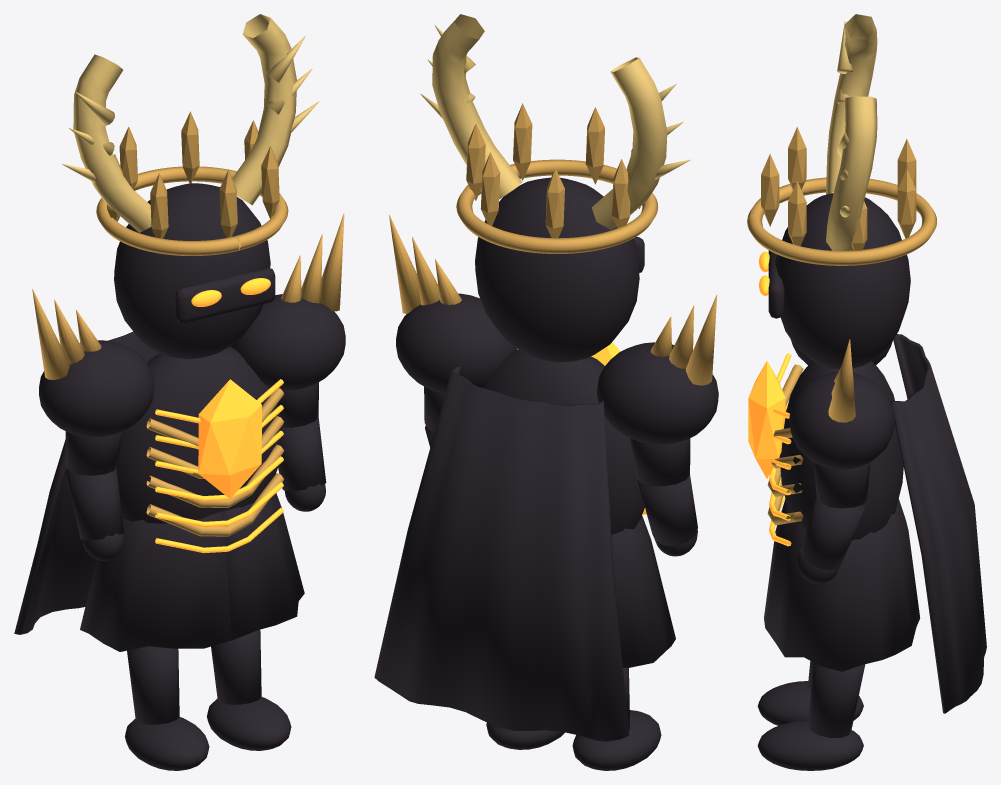
Rendered from enemy-7-refined-v15.fbx.
The picture shows the model from 3 angles, left to right: view 1: azimuth 30°, elevation 25°; view 2: azimuth 150°, elevation 25°; view 3: azimuth 270°, elevation 25°; orthographic projection. The views are drawn at different scales.
Parts seen in each view (by area): view 1: Tabard.005, Helmet.005, ArmoredTorso.005, Shoulder.012, Shoulder.013, TatteredCape.005, BossCore.003, CurvedBossHorn.006, CurvedBossHorn.007, RoyalCrown.003, Shin.012, Foot.014 (+25 smaller); view 2: TatteredCape.005, Helmet.005, Shoulder.012, Shoulder.013, ArmoredTorso.005, Tabard.005, CurvedBossHorn.007, CurvedBossHorn.006, RoyalCrown.003, Foot.014, Forearm.014, UpperArm.012 (+13 smaller); view 3: TatteredCape.005, Tabard.005, Helmet.005, Shoulder.013, ArmoredTorso.005, RoyalCrown.003, CurvedBossHorn.007, Foot.015, CurvedBossHorn.006, Shin.013, Forearm.015, BossCore.003 (+13 smaller).
Part boxes in pixels (x1,y1,x2,y2): Tabard.005: (80,493,304,651); Helmet.005: (114,183,270,359); ArmoredTorso.005: (116,347,282,523); Shoulder.012: (39,340,154,437); Shoulder.013: (230,294,345,390); TatteredCape.005: (14,331,230,634); BossCore.003: (198,379,261,498); CurvedBossHorn.006: (73,54,151,232); CurvedBossHorn.007: (232,14,296,205); RoyalCrown.003: (96,166,288,255); Shin.012: (127,646,179,724); Foot.014: (125,716,209,770); TatteredCape.005: (374,365,628,740); Helmet.005: (475,177,639,362); Shoulder.012: (597,342,718,444); Shoulder.013: (396,293,517,393); ArmoredTorso.005: (482,349,644,534); Tabard.005: (611,515,675,667); CurvedBossHorn.007: (432,14,522,198); CurvedBossHorn.006: (591,57,667,229); RoyalCrown.003: (456,159,657,253); Foot.014: (572,710,661,770); Forearm.014: (637,475,697,545); UpperArm.012: (630,438,690,486); TatteredCape.005: (891,334,986,713); Tabard.005: (764,499,919,671); Helmet.005: (775,193,910,368); Shoulder.013: (789,371,895,469); ArmoredTorso.005: (779,361,903,540); RoyalCrown.003: (747,177,936,265); CurvedBossHorn.007: (826,96,877,250); Foot.015: (757,720,863,770); CurvedBossHorn.006: (826,14,877,194); Shin.013: (808,663,865,737); Forearm.015: (800,498,865,570); BossCore.003: (748,361,785,478).
Size of the model in its own units: 114 by 244 by 76.71.
